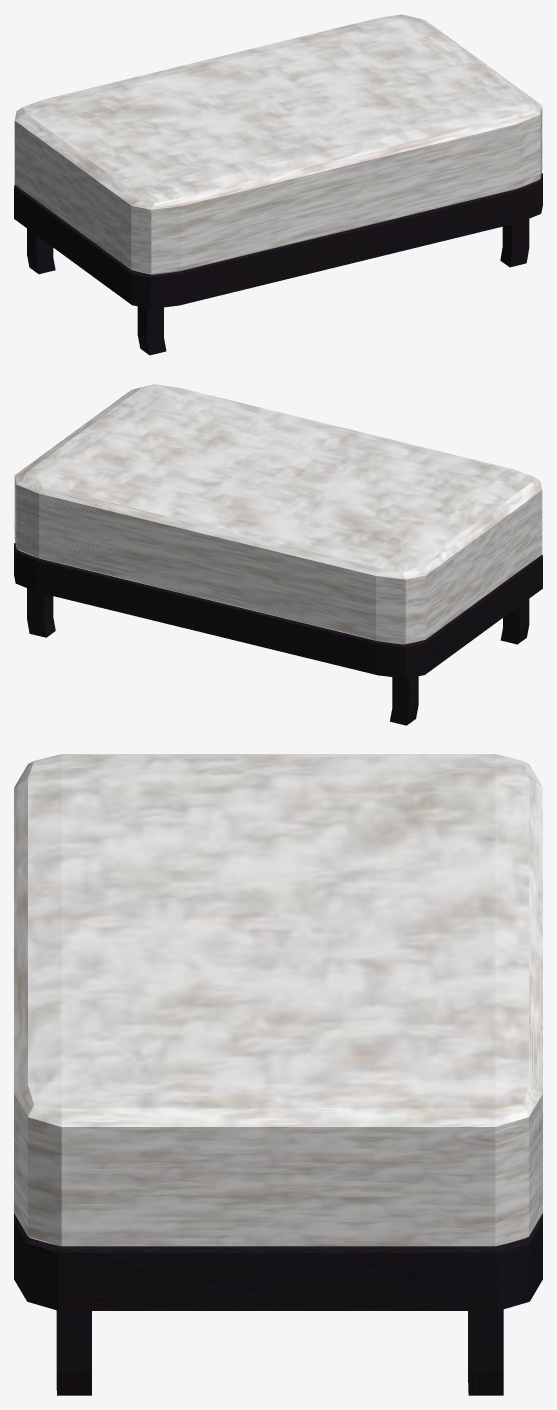
The model's file is bedsidething.fbx.
3 views of the same model, one above another, from view 1: azimuth 30°, elevation 25°; view 2: azimuth 150°, elevation 25°; view 3: azimuth 270°, elevation 25° (orthographic). The views are drawn at different scales.
Visible parts, largest first — view 1: Cube, Cube.001, Cube.002; view 2: Cube, Cube.001, Cube.002; view 3: Cube, Cube.001, Cube.002.
Part boxes in pixels (left/top/right/bottom): Cube: left=14, top=14, right=542, bottom=274; Cube.001: left=14, top=173, right=542, bottom=308; Cube.002: left=27, top=219, right=529, bottom=355; Cube: left=14, top=384, right=542, bottom=644; Cube.001: left=14, top=543, right=542, bottom=678; Cube.002: left=27, top=588, right=529, bottom=725; Cube: left=14, top=754, right=542, bottom=1246; Cube.001: left=14, top=1213, right=542, bottom=1310; Cube.002: left=56, top=1309, right=503, bottom=1395.
Size of the model in its own units: 434 by 161 by 260.
